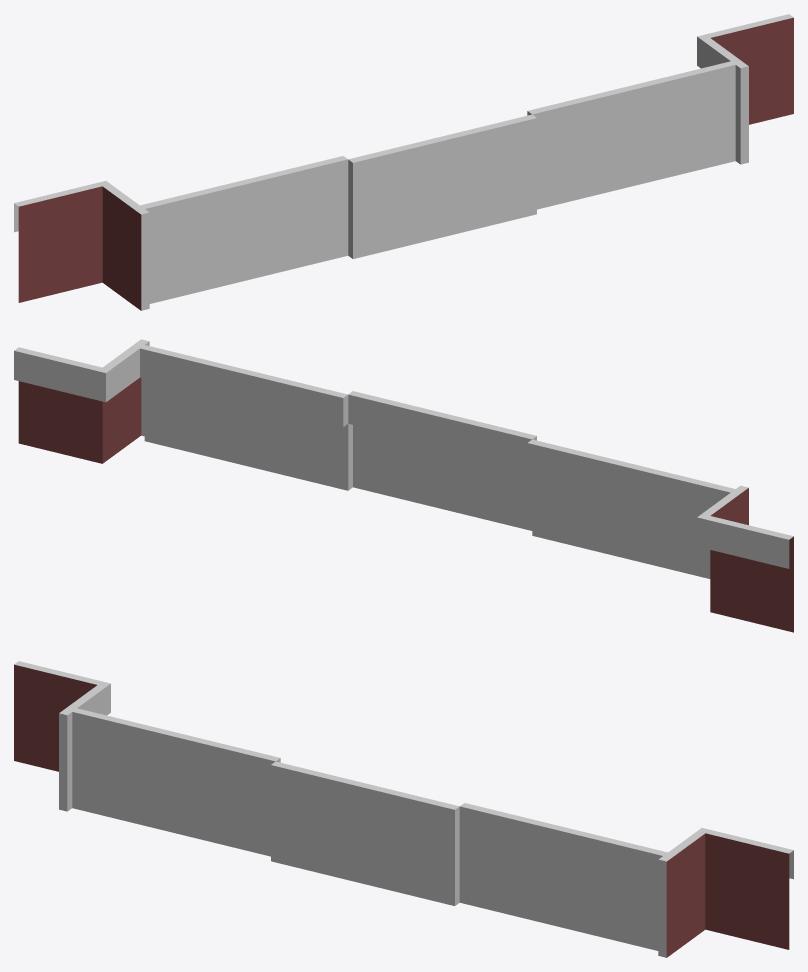
File: p3-floor-roof-back.fbx
3 views of the same model, one above another, from view 1: azimuth 30°, elevation 25°; view 2: azimuth 150°, elevation 25°; view 3: azimuth 330°, elevation 25° (orthographic).
Parts seen in each view (by area): view 1: floor-roof-back.001; view 2: floor-roof-back.001; view 3: floor-roof-back.001.
Boxes of the visible parts, x1,y1,x2,y2 form: floor-roof-back.001: (14, 14, 793, 310); floor-roof-back.001: (14, 339, 793, 632); floor-roof-back.001: (14, 661, 793, 957).
Bounding box in the file's own units: 2779 × 330 × 270.
